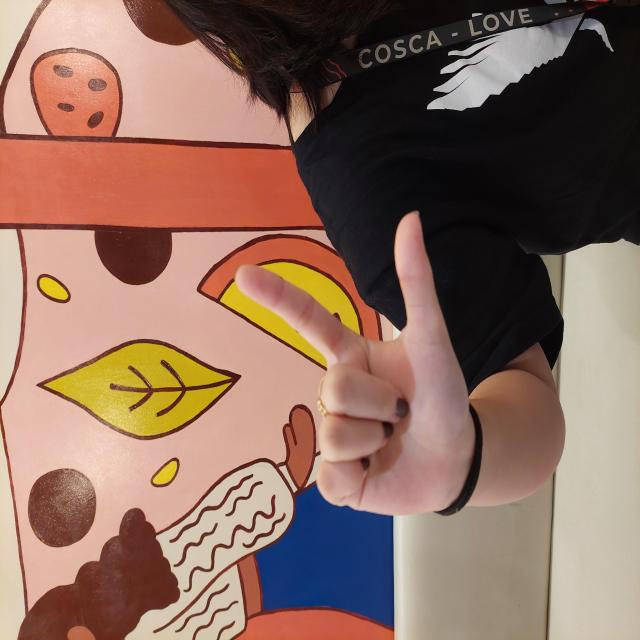L: (121, 231, 432, 470)
